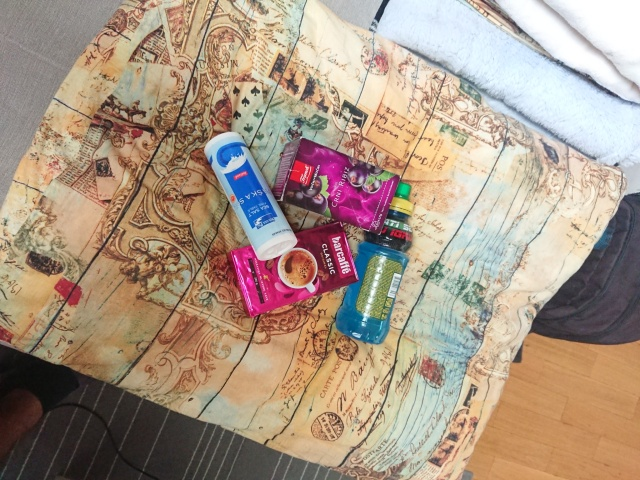Barcaffe Classic Original 225g: (223, 217, 363, 321)
Franck Black Currant Tea 60g: (267, 136, 404, 237)
Solana Pag Fine Sea Salt 250g: (202, 130, 299, 263)
Vindi Iso Sport Forest Strawberries 500mL: (333, 181, 417, 347)
